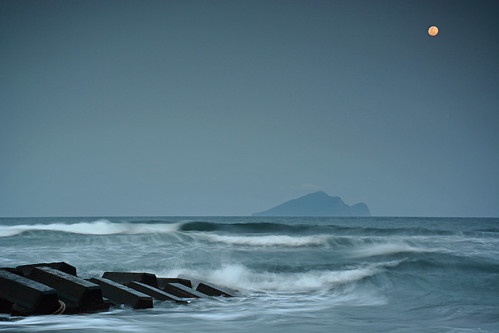turtleIsland: (252, 191, 372, 218)
